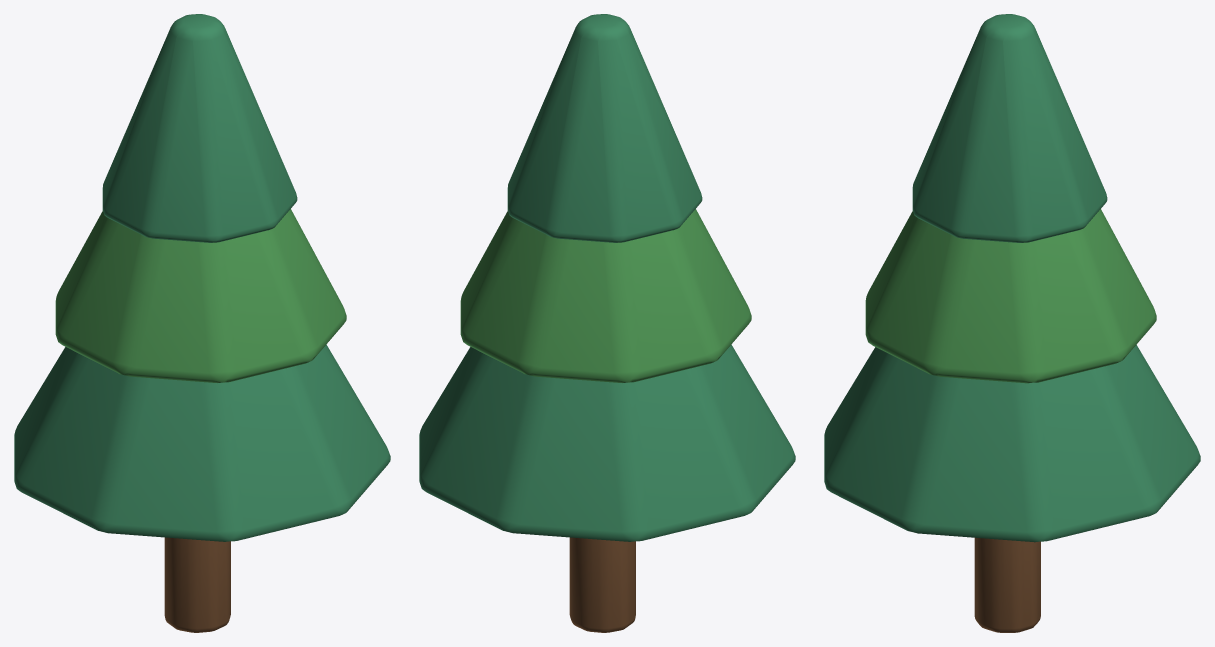
File: arvore_cone_baixa.glb
3 renders of one model, left to right at view 1: azimuth 30°, elevation 25°; view 2: azimuth 150°, elevation 25°; view 3: azimuth 270°, elevation 25°, orthographic.
Visible parts, largest first — view 1: Cone, Cone.001, Cone.002, Cylinder; view 2: Cone, Cone.001, Cone.002, Cylinder; view 3: Cone, Cone.001, Cone.002, Cylinder.
Boxes of the visible parts, box(x1,y1,x2,y2) form: Cone: box(14, 344, 390, 541); Cone.001: box(55, 209, 346, 382); Cone.002: box(102, 14, 297, 242); Cylinder: box(164, 537, 230, 632); Cone: box(419, 344, 795, 541); Cone.001: box(460, 209, 751, 382); Cone.002: box(507, 14, 702, 242); Cylinder: box(569, 537, 635, 632); Cone: box(824, 345, 1200, 542); Cone.001: box(865, 209, 1156, 383); Cone.002: box(912, 14, 1107, 242); Cylinder: box(974, 537, 1040, 632).
Bounding box in the file's own units: 1.54 × 2.67 × 1.52.
